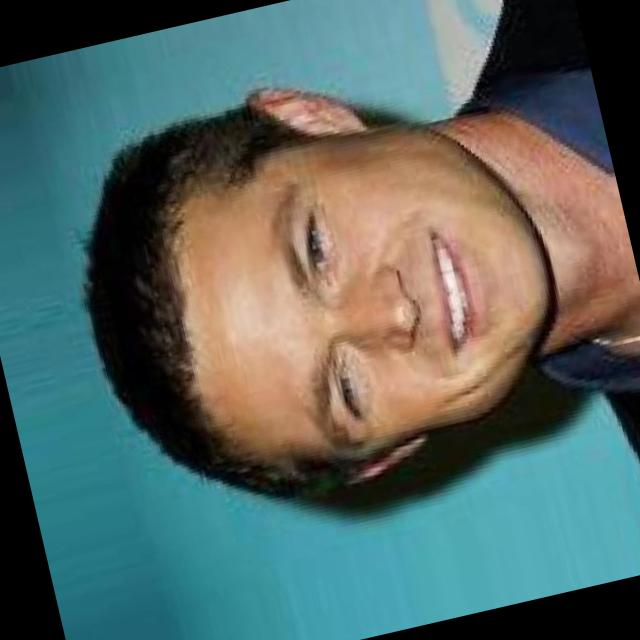bareface: (156, 109, 560, 438)
